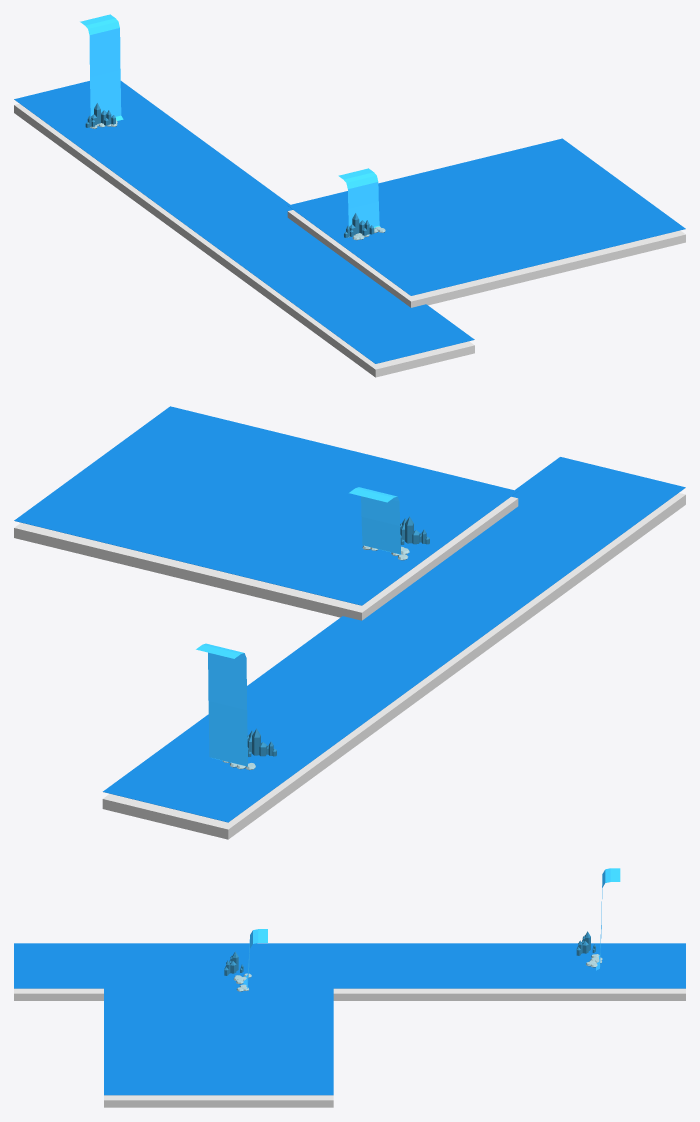
The model's file is water.glb.
The picture shows the model from 3 angles, top to bottom: view 1: azimuth 30°, elevation 25°; view 2: azimuth 150°, elevation 25°; view 3: azimuth 270°, elevation 25°; orthographic projection. The views are drawn at different scales.
Visible parts, largest first — view 1: water_Mine_Water, water_Mine_Rock, water_Mine_Fall, water_G04_crystal; view 2: water_Mine_Water, water_Mine_Rock, water_Mine_Fall, water_G04_crystal; view 3: water_Mine_Water, water_Mine_Rock, water_Mine_Fall, water_G04_crystal.
Boxes of the visible parts, box(x1,y1,x2,y2) form: water_Mine_Water: box(14, 81, 685, 363); water_Mine_Rock: box(14, 103, 685, 377); water_Mine_Fall: box(80, 14, 379, 235); water_G04_crystal: box(85, 103, 374, 237); water_Mine_Water: box(14, 406, 685, 822); water_Mine_Rock: box(14, 493, 685, 839); water_Mine_Fall: box(196, 487, 400, 766); water_G04_crystal: box(247, 516, 429, 756); water_Mine_Water: box(14, 943, 685, 1095); water_Mine_Rock: box(14, 988, 685, 1107); water_Mine_Fall: box(243, 868, 620, 988); water_G04_crystal: box(224, 931, 595, 975).
Bounding box in the file's own units: 47 × 13.7 × 82.
